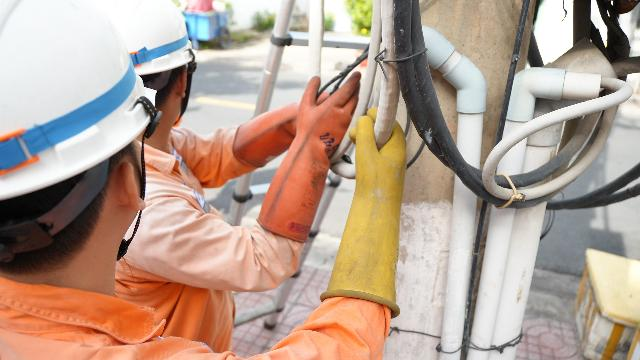gloves: (329, 103, 418, 328), (270, 76, 363, 256), (210, 84, 361, 148)
helmet: (0, 0, 160, 218), (89, 0, 212, 85)
